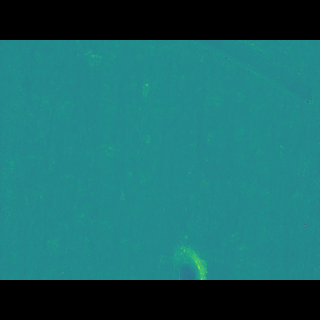Loch: (184, 69, 320, 120), (167, 218, 215, 251)
